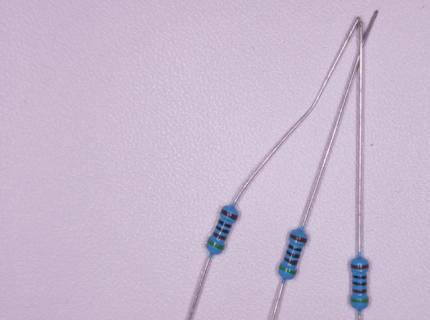Black band: (215, 225, 230, 234), (285, 250, 300, 258), (288, 244, 302, 252), (219, 220, 232, 228), (353, 282, 367, 286), (352, 275, 367, 278)
Brown band: (220, 209, 238, 220), (289, 234, 308, 244), (212, 231, 227, 241), (283, 257, 298, 265), (351, 264, 368, 269), (352, 289, 366, 293)
Green band: (207, 239, 224, 250), (279, 265, 297, 275), (350, 298, 369, 303)
